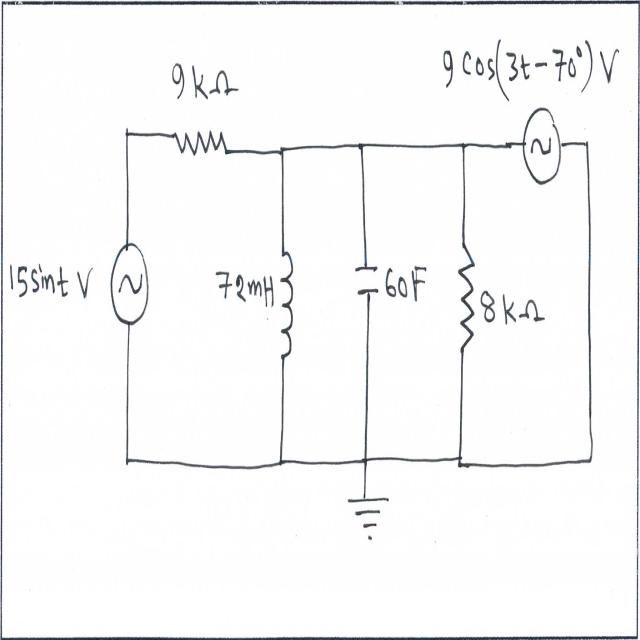ac_current: (106, 236, 151, 330), (519, 96, 563, 188)
capacitor: (354, 254, 380, 307)
ground: (344, 489, 395, 547)
inductor: (274, 235, 295, 371)
resistor: (455, 233, 478, 358), (171, 121, 232, 162)
